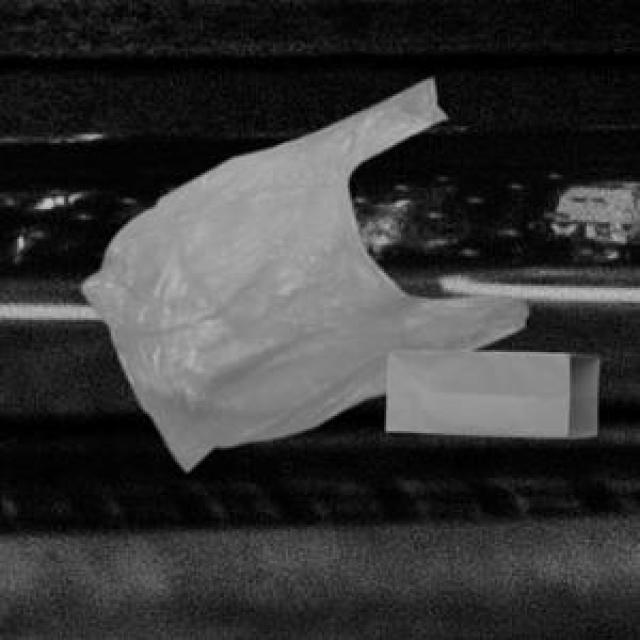paper: (383, 346, 595, 433)
